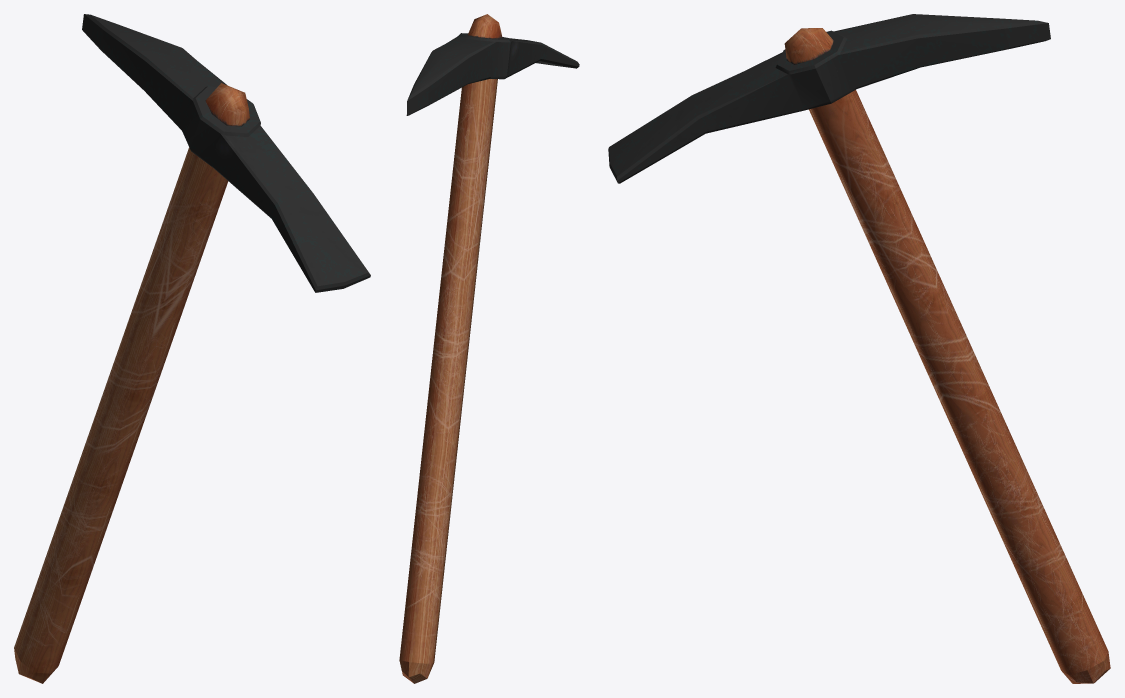
The model's file is Weapon7.fbx.
3 renders of one model, left to right at view 1: azimuth 30°, elevation 25°; view 2: azimuth 150°, elevation 25°; view 3: azimuth 270°, elevation 25°, orthographic. The views are drawn at different scales.
Visible parts, largest first — view 1: PickAxe; view 2: PickAxe; view 3: PickAxe.
Part boxes in pixels (bbox=[...]): PickAxe: bbox=[14, 14, 370, 683]; PickAxe: bbox=[399, 14, 579, 683]; PickAxe: bbox=[608, 14, 1110, 683].
Bounding box in the file's own units: 27.06 × 148 × 98.28.
